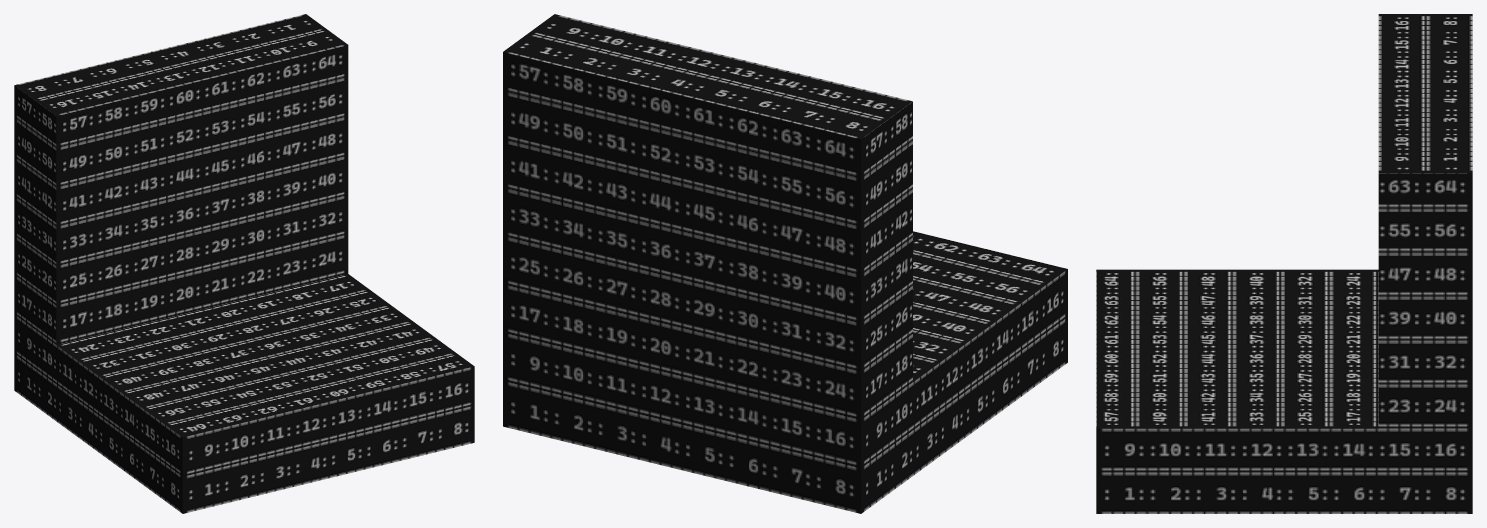
3 renders of one model, left to right at view 1: azimuth 30°, elevation 25°; view 2: azimuth 150°, elevation 25°; view 3: azimuth 270°, elevation 25°, orthographic. The views are drawn at different scales.
Parts seen in each view (by area): view 1: 挑檐; view 2: 挑檐; view 3: 挑檐.
Part boxes in pixels (bbox=[...]): 挑檐: bbox=[14, 14, 474, 513]; 挑檐: bbox=[503, 14, 1067, 513]; 挑檐: bbox=[1096, 14, 1472, 513].
Size of the model in its own units: 100 by 100 by 100.
